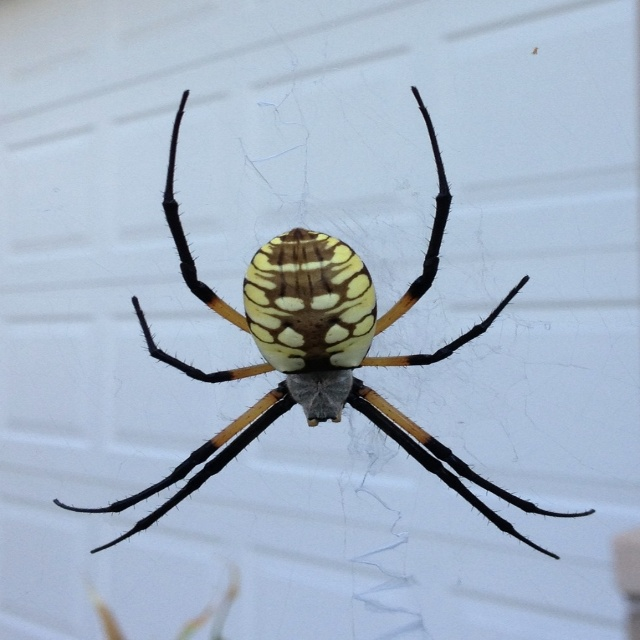Spider: (52, 86, 597, 561)
